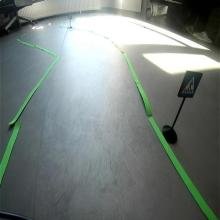crosswalk: (176, 70, 203, 99)
